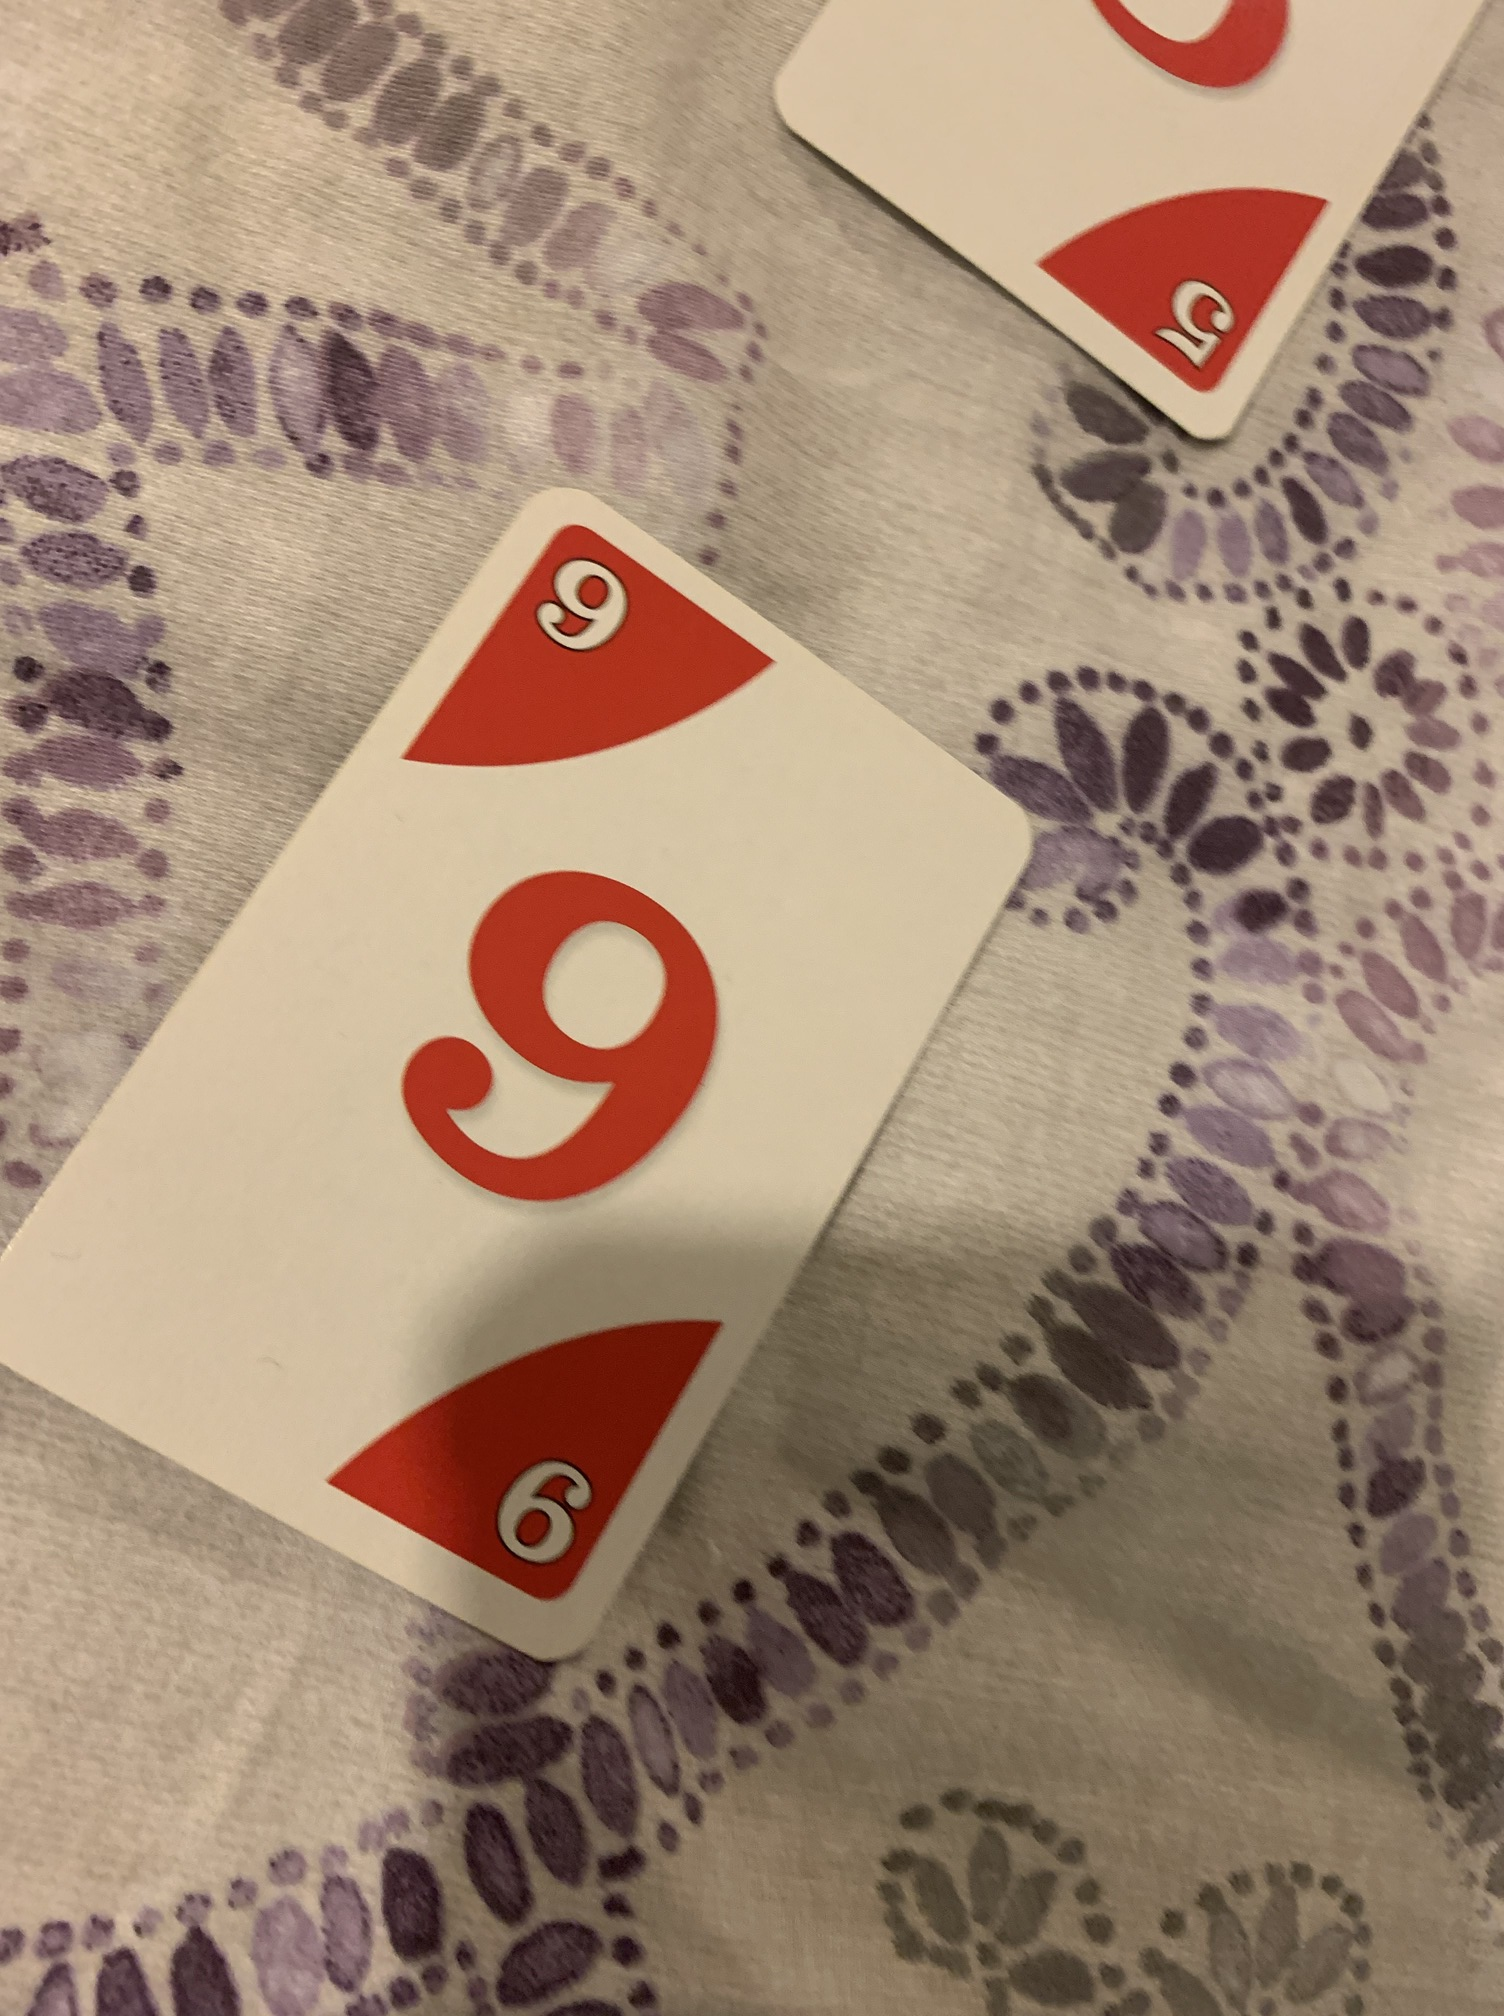nine: (17, 466, 1044, 1664)
